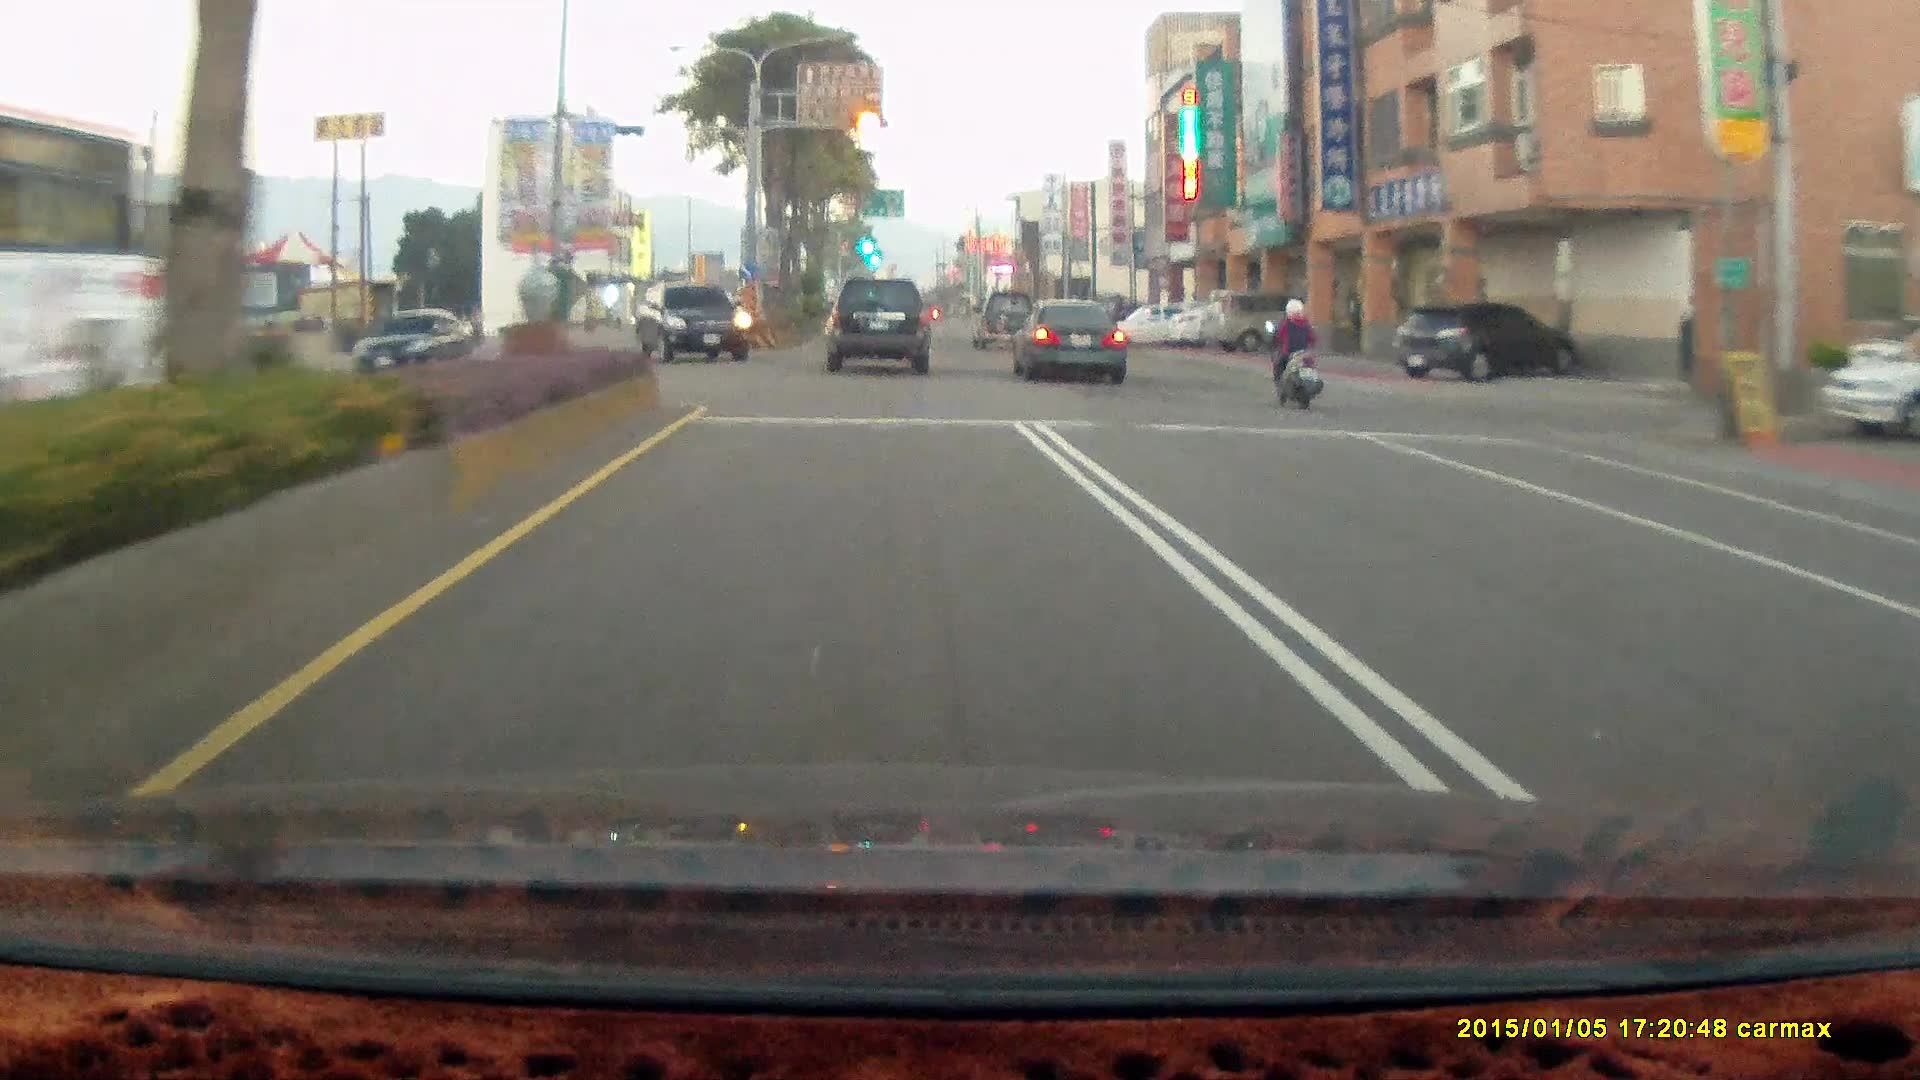pedestrian: (1340, 287, 1365, 352)
rider: (1258, 289, 1334, 418), (1268, 299, 1327, 410)
vehicle: (0, 111, 138, 463), (1390, 300, 1580, 383), (1395, 302, 1587, 382), (1814, 343, 1920, 442), (824, 281, 931, 378), (1009, 296, 1126, 382), (824, 277, 929, 373), (1818, 342, 1919, 441), (634, 280, 751, 362), (1010, 301, 1128, 384), (351, 306, 475, 379), (635, 287, 753, 364), (1197, 289, 1324, 354), (1198, 290, 1314, 358), (1105, 301, 1213, 349), (970, 289, 1038, 351)
